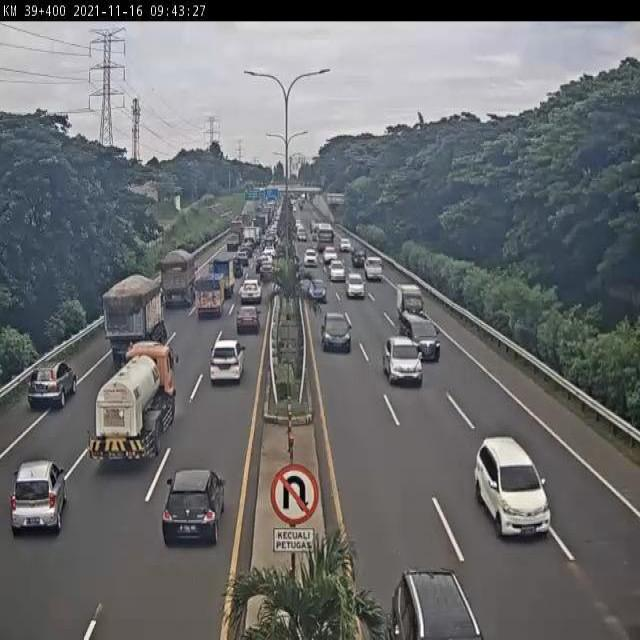car: (401, 556, 475, 640), (491, 436, 549, 529), (163, 468, 226, 548), (8, 464, 65, 547), (16, 354, 71, 422), (386, 338, 424, 386), (211, 335, 243, 388), (411, 321, 440, 356), (399, 280, 423, 315), (234, 305, 256, 335), (328, 318, 348, 350), (239, 278, 260, 302), (365, 256, 383, 279), (310, 276, 327, 299), (348, 274, 364, 298), (351, 244, 367, 267), (324, 244, 338, 264), (330, 260, 344, 279), (261, 261, 272, 284), (305, 248, 317, 265)
truck-l-: (101, 273, 171, 364), (160, 250, 193, 310)
truck-m-: (90, 339, 180, 468), (193, 270, 221, 322), (208, 259, 234, 300)
